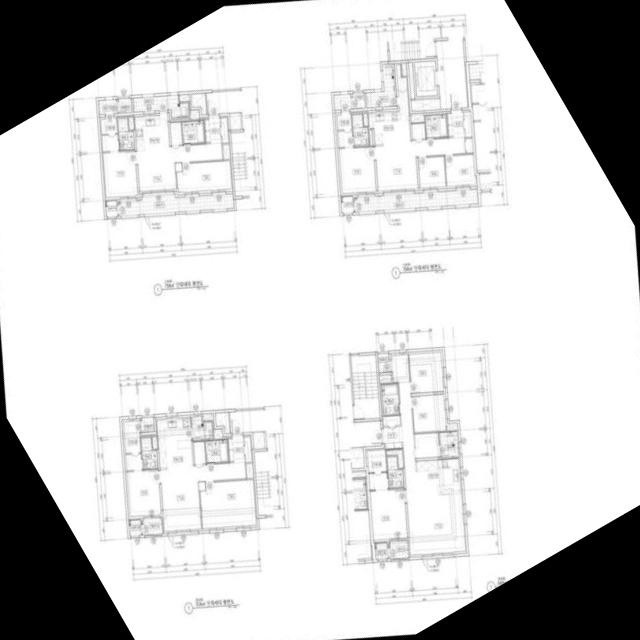background: (0, 0, 640, 640)
space_balconi: (353, 189, 478, 212), (117, 194, 234, 216), (365, 64, 395, 108), (132, 95, 189, 118), (438, 431, 458, 458), (191, 416, 212, 440), (388, 541, 408, 559), (141, 518, 162, 535), (98, 99, 116, 115)
space_bedroom: (200, 479, 255, 528), (369, 489, 407, 540), (338, 146, 376, 193), (176, 160, 231, 192), (126, 470, 161, 516), (103, 151, 137, 197), (409, 352, 443, 393), (412, 394, 446, 433), (444, 154, 475, 186), (418, 156, 445, 188)
space_dressroom: (123, 421, 142, 471), (366, 450, 387, 490), (100, 116, 118, 152), (336, 112, 353, 147)
space_elevator: (414, 61, 437, 97)
space_elevator_hall: (435, 39, 467, 109)
space_front: (227, 434, 251, 463), (204, 115, 228, 144), (447, 109, 464, 138), (381, 426, 402, 449)
space_kitchen: (368, 65, 410, 144), (156, 417, 193, 468), (415, 458, 460, 496), (134, 112, 169, 149)
space_living_room: (391, 354, 465, 555), (160, 462, 246, 531), (374, 137, 465, 191), (136, 143, 222, 191)
space_other: (414, 433, 439, 458), (333, 93, 364, 110), (410, 98, 440, 111), (191, 93, 206, 115), (215, 412, 229, 434), (386, 450, 403, 468), (193, 441, 205, 464), (170, 122, 182, 145), (377, 353, 391, 372), (408, 62, 415, 99), (463, 112, 472, 137), (411, 123, 425, 139), (140, 417, 154, 432), (117, 98, 131, 113), (252, 432, 264, 449), (229, 113, 240, 130), (383, 415, 400, 426), (465, 138, 473, 153), (410, 115, 424, 123), (222, 144, 229, 159), (246, 463, 252, 478), (189, 111, 198, 120), (213, 430, 222, 439), (179, 94, 189, 102), (379, 375, 391, 381), (363, 113, 368, 126), (128, 118, 133, 130), (401, 64, 406, 76), (202, 415, 212, 421), (446, 425, 456, 431), (152, 437, 157, 449), (369, 130, 372, 145)
space_outdoor_room: (374, 543, 388, 560), (128, 519, 141, 536), (105, 200, 117, 217)
space_staircase: (351, 354, 379, 420)
space_toilet: (381, 384, 399, 415), (205, 439, 228, 463), (181, 120, 204, 144), (424, 114, 447, 138), (386, 456, 403, 488), (352, 114, 369, 146), (117, 118, 134, 150), (141, 437, 157, 469)
